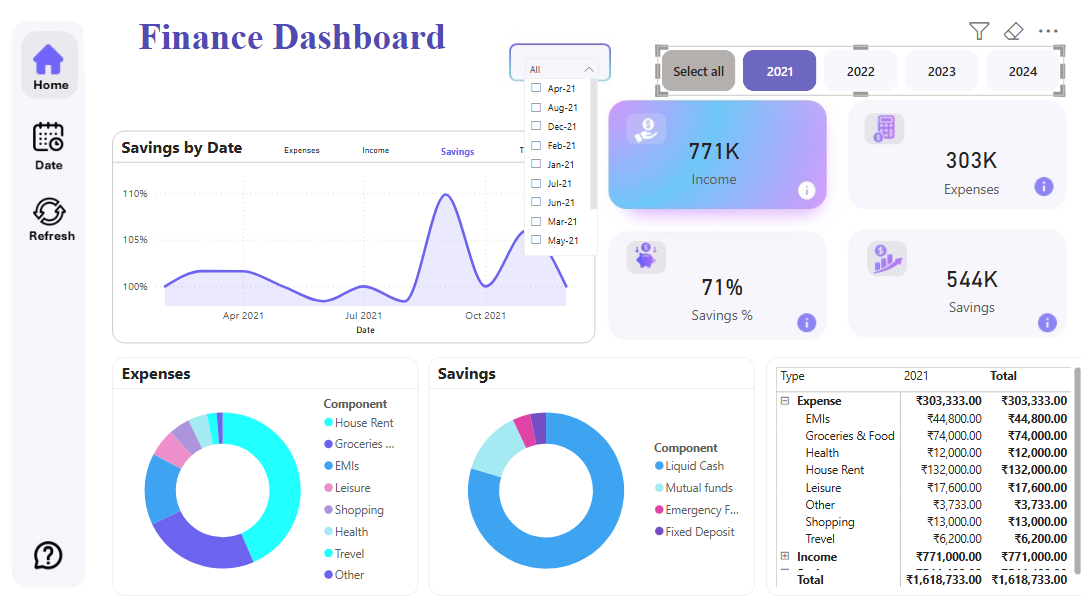

This screenshot's page, from the dashboard's own definition file:
{"tool":"powerbi","page":{"name":"HOME","canvas":[1280,720],"ordinal":0},"visuals":[{"type":"card","fields":{"Values":["Finance.Expenses"]},"box":[1094.1,164.8,85.7,79.1],"z":0},{"type":"card","fields":{"Values":["Finance.Income"]},"box":[795.2,158.3,85.7,71.3],"z":1000},{"type":"card","fields":{"Values":["Finance.Savings %"]},"box":[786.7,296.2,121.6,111.2],"z":2000},{"type":"card","fields":{"Values":["Finance.Savings"]},"box":[1072.5,286.4,129.5,109.9],"z":3000},{"type":"advancedSlicerVisual","fields":{"Values":["Finance.Year"]},"box":[772.3,62.1,472.8,58.2],"z":4000},{"type":"donutChart","title":"Savings","fields":{"Category":["Finance.Component"],"Y":["Finance.Savings"]},"box":[506.8,423.8,378.6,276.6],"z":5000},{"type":"donutChart","title":"Expenses","fields":{"Category":["Finance.Component"],"Y":["Finance.Expenses"]},"box":[141.3,423.1,355.1,276.6],"z":6000},{"type":"pivotTable","fields":{"Rows":["Finance.Type","Finance.Component"],"Values":["Finance.Total Value"],"Columns":["Finance.Year"]},"box":[897.9,423.8,375.4,276.6],"z":7000},{"type":"areaChart","fields":{"Category":["Finance.Date"],"Y":["Finance.Line_Chart_Measures"]},"box":[141.3,160.9,559.8,246.5],"z":8000},{"type":"advancedSlicerVisual","fields":{"Values":["Line Selection Table.Type"]},"box":[322.4,165.5,368.8,28.8],"z":9000},{"type":"textbox","box":[107.1,22.5,483.8,69.1],"z":10000},{"type":"slicer","fields":{"Values":["Finance.Month-Yr"]},"box":[608.2,67.4,105.9,32],"z":11000},{"type":"actionButton","box":[26.8,145.7,81.6,67.9],"z":12000},{"type":"actionButton","box":[26.8,237.3,81.3,64.6],"z":14000}]}

Visuals, with their boxes on the page's 1280x720 design canvas (x1, y1, x2, y2). These are canvas units, not pixel positions in the 1082x598 screenshot, which may show the page scaled, cropped or inside an application window:
card - Finance.Expenses: (1094,165,1180,244)
card - Finance.Income: (795,158,881,230)
card - Finance.Savings %: (787,296,908,407)
card - Finance.Savings: (1072,286,1202,396)
advancedSlicerVisual - Finance.Year: (772,62,1245,120)
"Savings" donutChart: (507,424,885,700)
"Expenses" donutChart: (141,423,496,700)
pivotTable - Finance.Type x Finance.Component: (898,424,1273,700)
areaChart - Finance.Date x Finance.Line_Chart_Measures: (141,161,701,407)
advancedSlicerVisual - Line Selection Table.Type: (322,166,691,194)
textbox: (107,22,591,92)
slicer - Finance.Month-Yr: (608,67,714,99)
actionButton: (27,146,108,214)
actionButton: (27,237,108,302)
